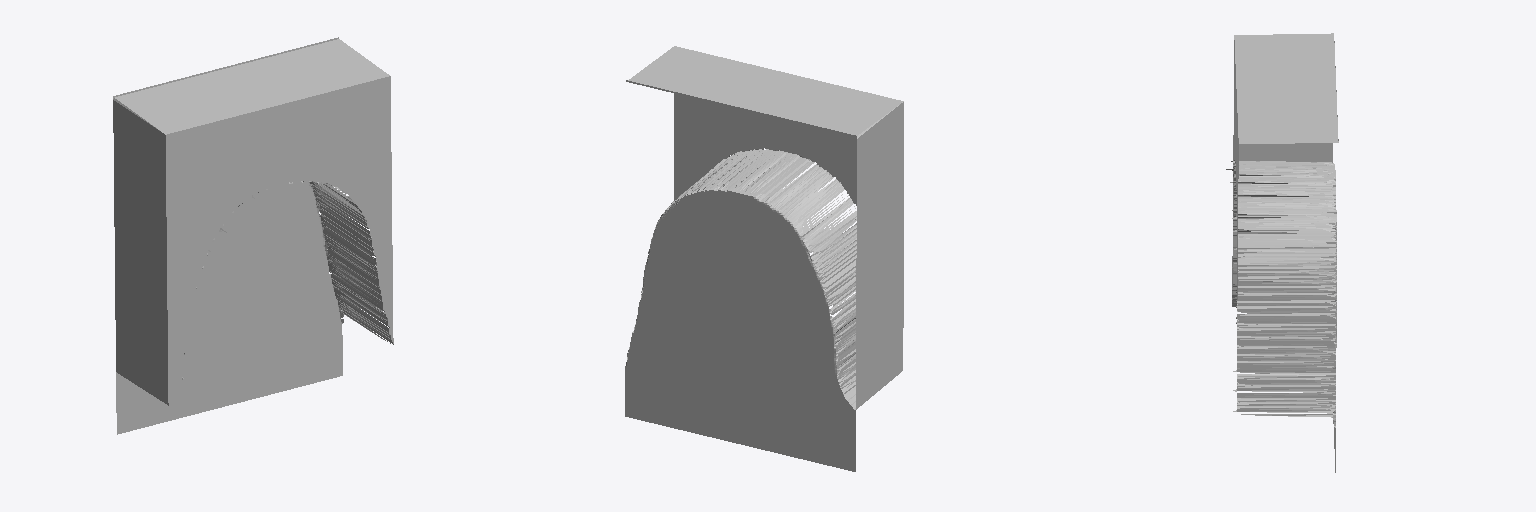
Rendered from waterfall-more.obj.
3 views of the same model, side by side, from view 1: azimuth 30°, elevation 25°; view 2: azimuth 150°, elevation 25°; view 3: azimuth 270°, elevation 25° (orthographic).
Bounding box in the file's own units: 0.7099 × 0.9947 × 0.3109.